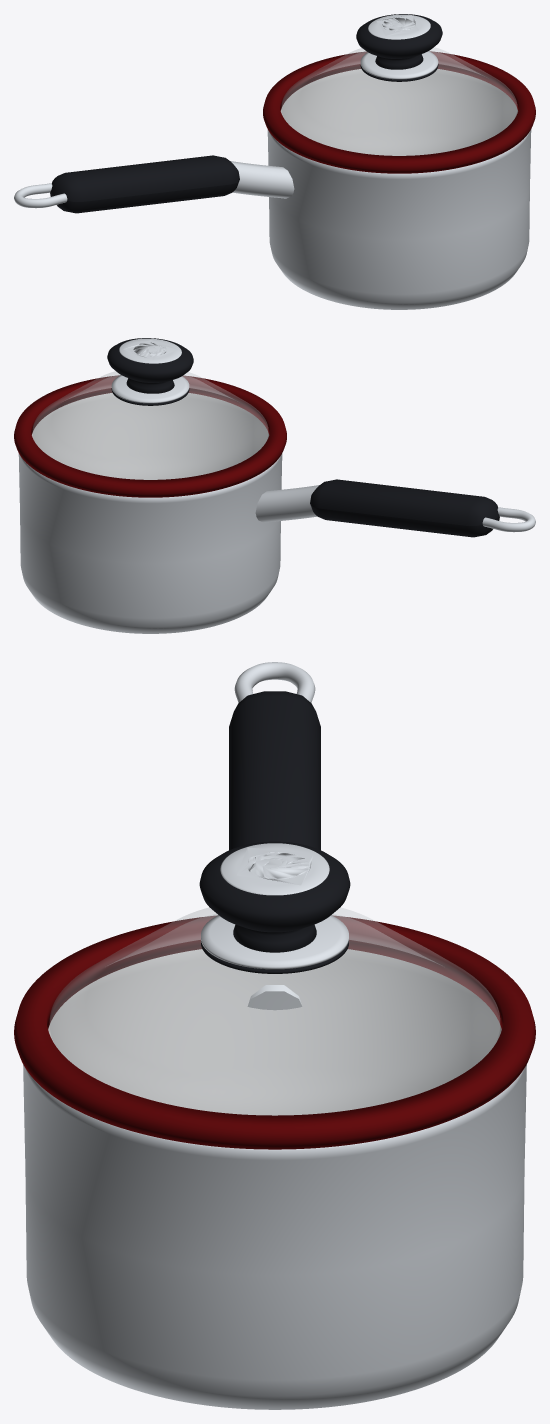
File: olla-er-2-cuartos.glb
3 views of the same model, one above another, from view 1: azimuth 30°, elevation 25°; view 2: azimuth 150°, elevation 25°; view 3: azimuth 270°, elevation 25° (orthographic). The views are drawn at different scales.
Parts seen in each view (by area): view 1: Cuerpo con interior, Cristal de tapa, Aro rojo de la tapa, Mango largo negro, NOVEL · Pomo cerrado redondeado, Cuello de mango, NOVEL · Base cromada del pomo, Argolla metálica del mango, NOVEL · Placa superior del pomo, NOVEL · Emblema original en relieve bajo; view 2: Cuerpo con interior, Cristal de tapa, Aro rojo de la tapa, Mango largo negro, NOVEL · Pomo cerrado redondeado, Cuello de mango, NOVEL · Base cromada del pomo, Argolla metálica del mango, NOVEL · Placa superior del pomo, NOVEL · Emblema original en relieve bajo; view 3: Cuerpo con interior, Cristal de tapa, Aro rojo de la tapa, Mango largo negro, NOVEL · Pomo cerrado redondeado, NOVEL · Base cromada del pomo, NOVEL · Placa superior del pomo, NOVEL · Emblema original en relieve bajo, Argolla metálica del mango, Cuello de mango.
Boxes of the visible parts, left/top/right/bottom form: Cuerpo con interior: left=267, top=69, right=531, bottom=309; Cristal de tapa: left=282, top=47, right=516, bottom=155; Aro rojo de la tapa: left=263, top=51, right=535, bottom=173; Mango largo negro: left=50, top=155, right=239, bottom=213; NOVEL · Pomo cerrado redondeado: left=356, top=14, right=442, bottom=69; Cuello de mango: left=230, top=161, right=294, bottom=198; NOVEL · Base cromada del pomo: left=360, top=51, right=438, bottom=79; Argolla metálica del mango: left=14, top=183, right=67, bottom=208; NOVEL · Placa superior del pomo: left=368, top=14, right=430, bottom=39; NOVEL · Emblema original en relieve bajo: left=376, top=15, right=418, bottom=35; Cuerpo con interior: left=18, top=393, right=282, bottom=633; Cristal de tapa: left=33, top=371, right=267, bottom=479; Aro rojo de la tapa: left=14, top=375, right=286, bottom=497; Mango largo negro: left=310, top=479, right=499, bottom=537; NOVEL · Pomo cerrado redondeado: left=107, top=338, right=193, bottom=393; Cuello de mango: left=255, top=485, right=319, bottom=522; NOVEL · Base cromada del pomo: left=111, top=375, right=189, bottom=403; Argolla metálica del mango: left=482, top=507, right=535, bottom=532; NOVEL · Placa superior del pomo: left=119, top=338, right=181, bottom=363; NOVEL · Emblema original en relieve bajo: left=123, top=340, right=177, bottom=359; Cuerpo con interior: left=23, top=949, right=526, bottom=1409; Cristal de tapa: left=50, top=907, right=499, bottom=1115; Aro rojo de la tapa: left=14, top=915, right=535, bottom=1149; Mango largo negro: left=229, top=691, right=320, bottom=850; NOVEL · Pomo cerrado redondeado: left=199, top=841, right=350, bottom=952; NOVEL · Base cromada del pomo: left=201, top=915, right=348, bottom=969; NOVEL · Placa superior del pomo: left=220, top=843, right=329, bottom=895; NOVEL · Emblema original en relieve bajo: left=237, top=847, right=313, bottom=885; Argolla metálica del mango: left=234, top=662, right=315, bottom=702; Cuello de mango: left=247, top=985, right=302, bottom=1010.
Size of the model in its own units: 0.373 by 0.1682 by 0.176.
